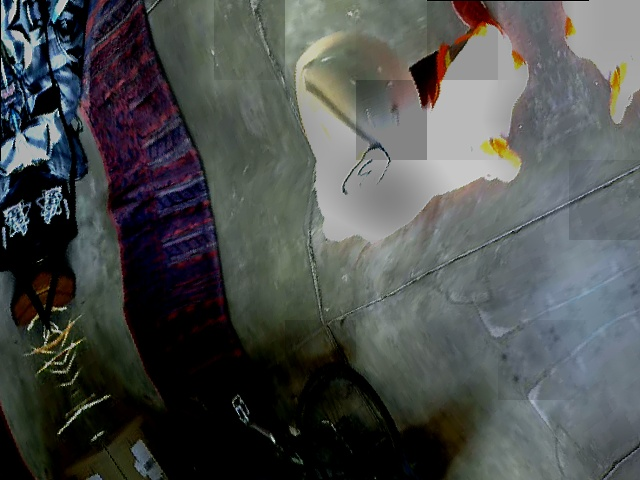three: (334, 138, 385, 214)
